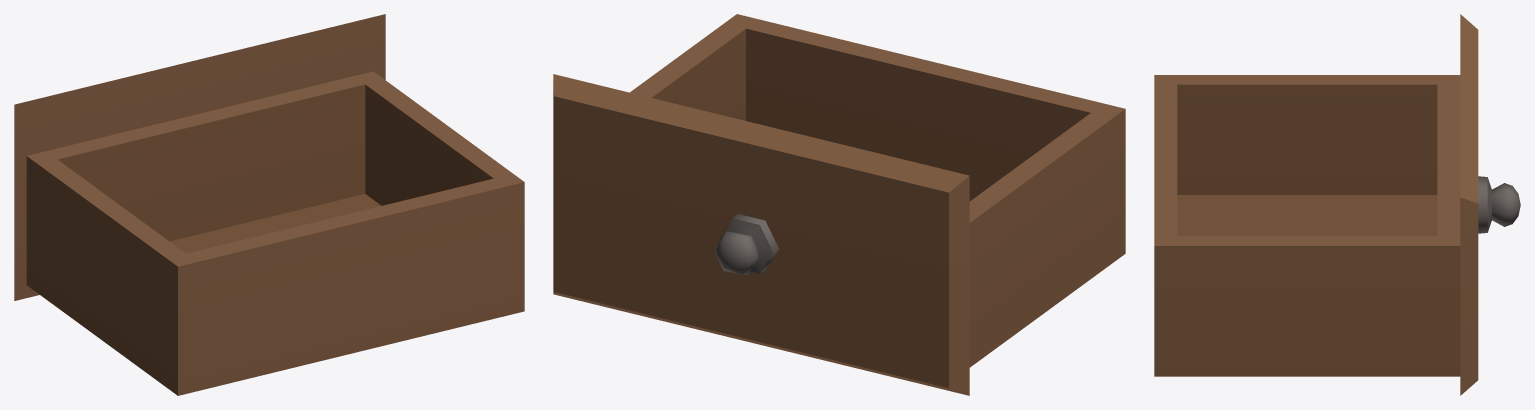
File: ShelfUnit2_Drawer.fbx
3 renders of one model, left to right at view 1: azimuth 30°, elevation 25°; view 2: azimuth 150°, elevation 25°; view 3: azimuth 270°, elevation 25°, orthographic. The views are drawn at different scales.
Parts seen in each view (by area): view 1: ShelfUnit2_Drawer; view 2: ShelfUnit2_Drawer; view 3: ShelfUnit2_Drawer.
Boxes of the visible parts, x1=… form: ShelfUnit2_Drawer: x1=14, y1=14, x2=524, y2=395; ShelfUnit2_Drawer: x1=553, y1=14, x2=1125, y2=395; ShelfUnit2_Drawer: x1=1154, y1=14, x2=1520, y2=395.
Bounding box in the file's own units: 36.73 × 18.57 × 31.04.
